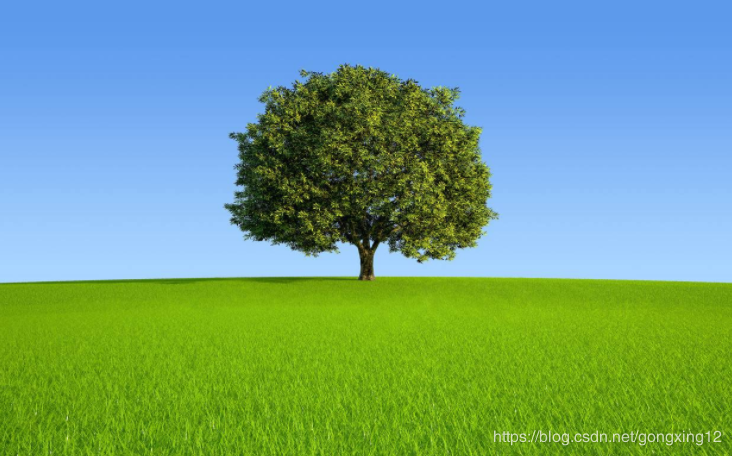tree: (223, 62, 501, 281)
